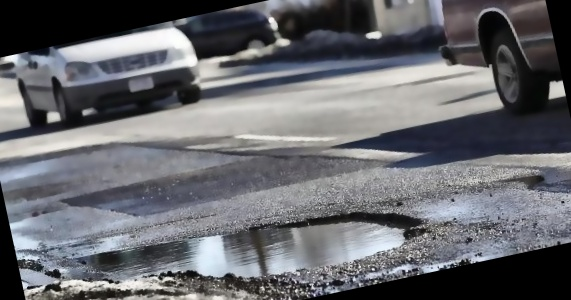pothole: (70, 182, 430, 300), (504, 170, 546, 192)
